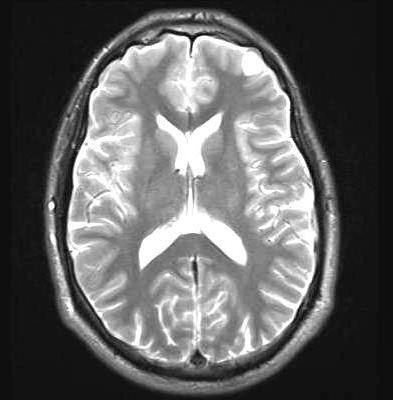Normal_Brain: (34, 2, 369, 400)
